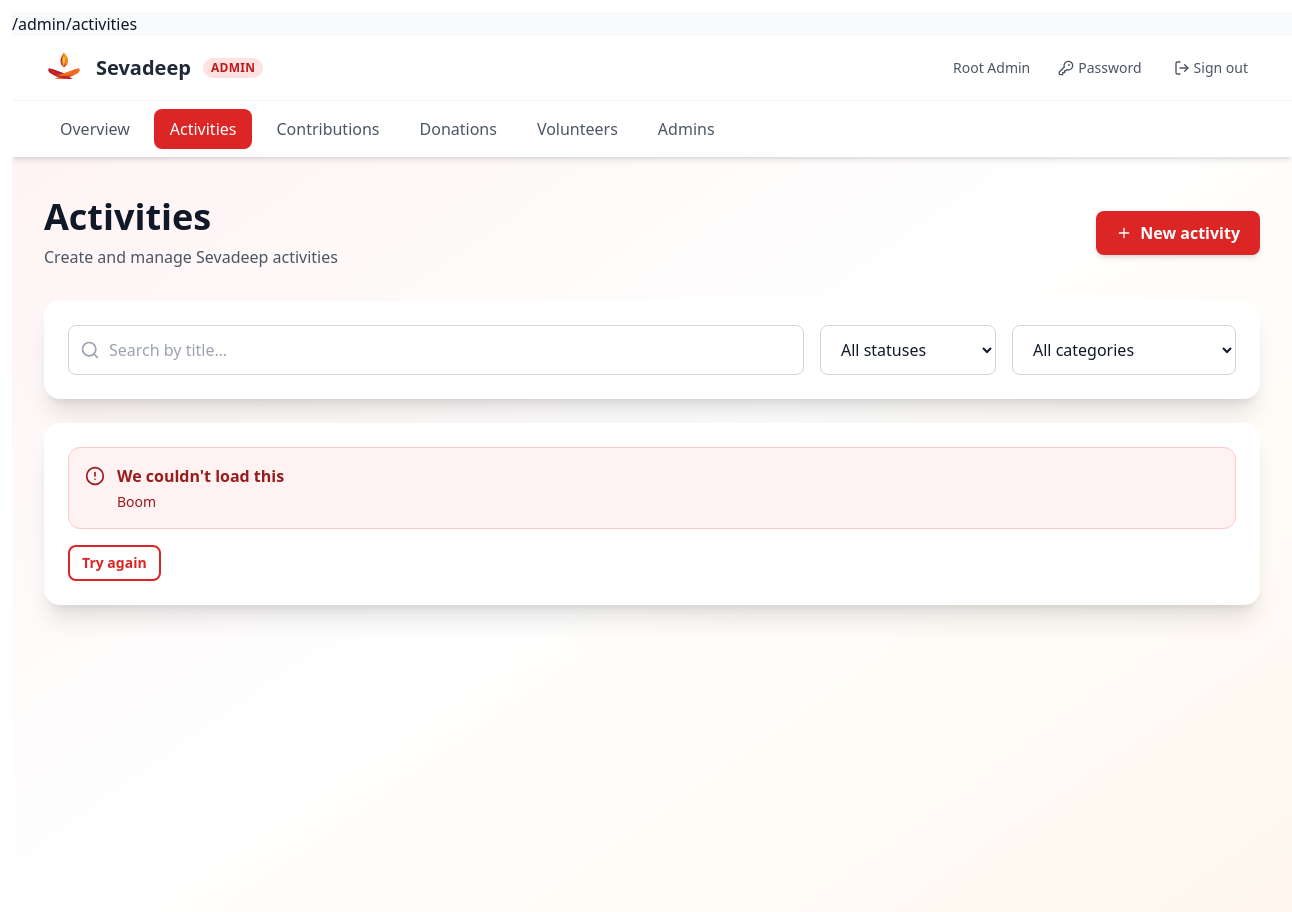
admin Activities list › shows the API error with a retry
Expected: the text "Boom" is shown, [117,492,156,511]
Click the button "Try again" at (114, 563), box [68,545,161,581]
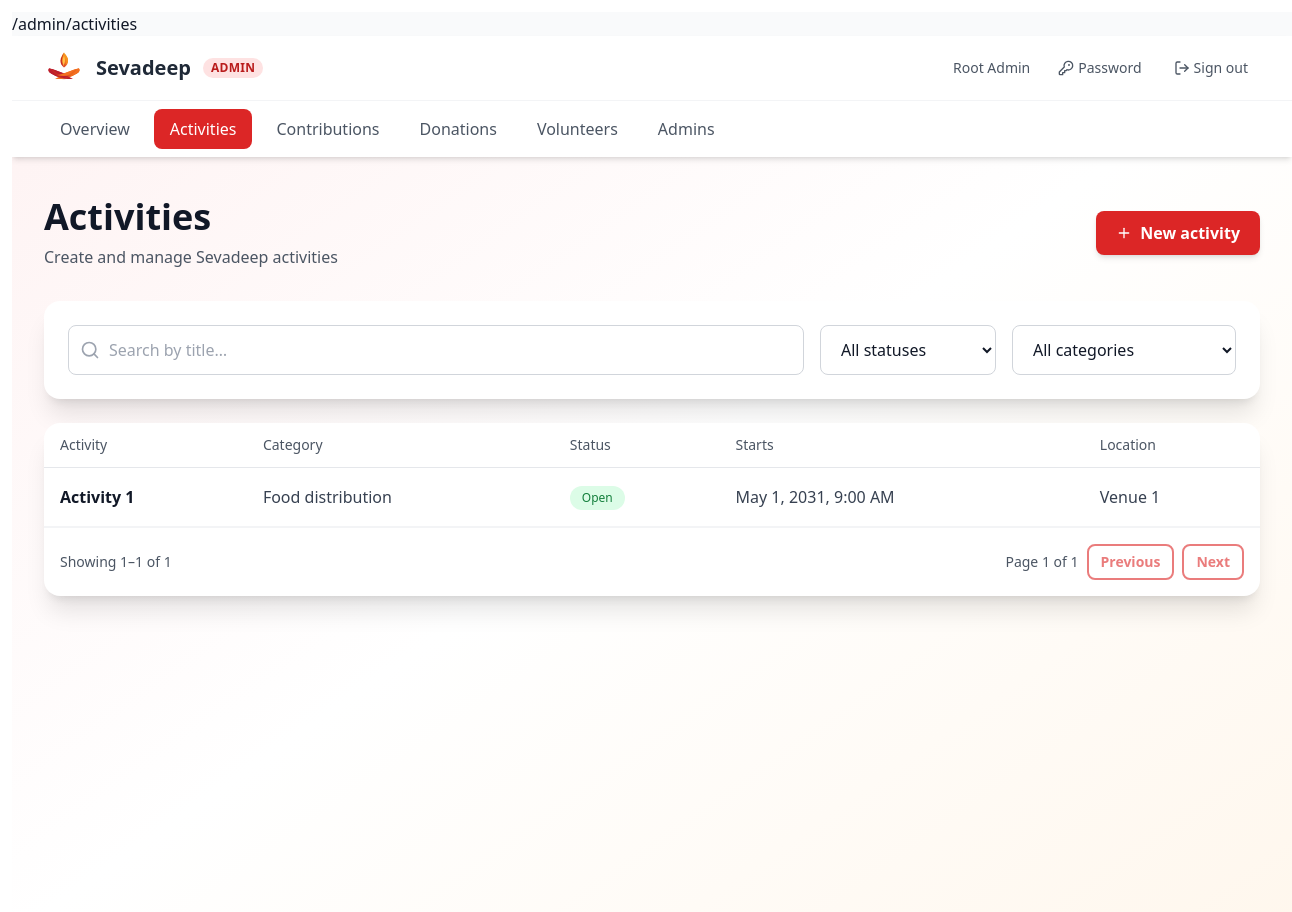
Expected: the link "Activity 1" is shown, [60,486,134,508]
